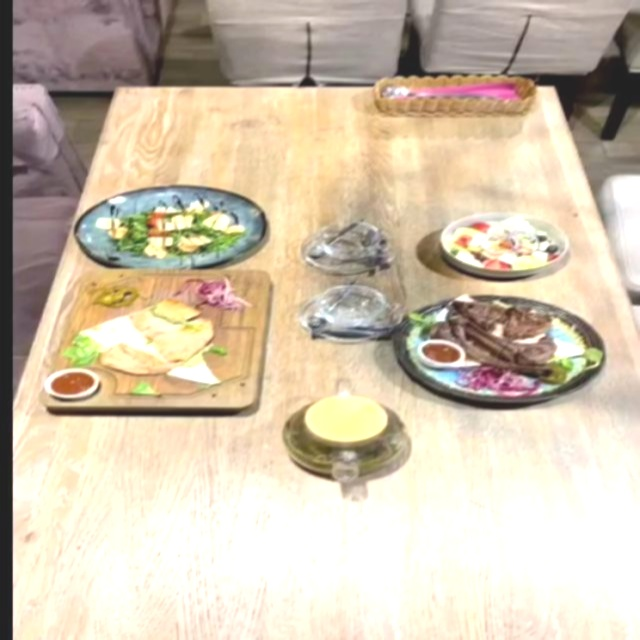meat: (38, 273, 272, 414), (393, 294, 608, 403)
salad: (73, 185, 265, 268), (438, 211, 571, 276)
tea: (282, 395, 411, 480)
